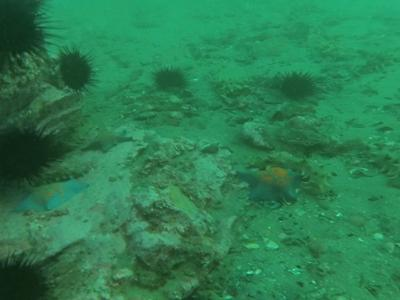holothurian: (265, 151, 334, 199), (363, 142, 396, 194)
urchin: (3, 119, 69, 192), (4, 2, 62, 68), (57, 42, 104, 99), (4, 248, 56, 297), (278, 68, 320, 103), (154, 64, 190, 94)
